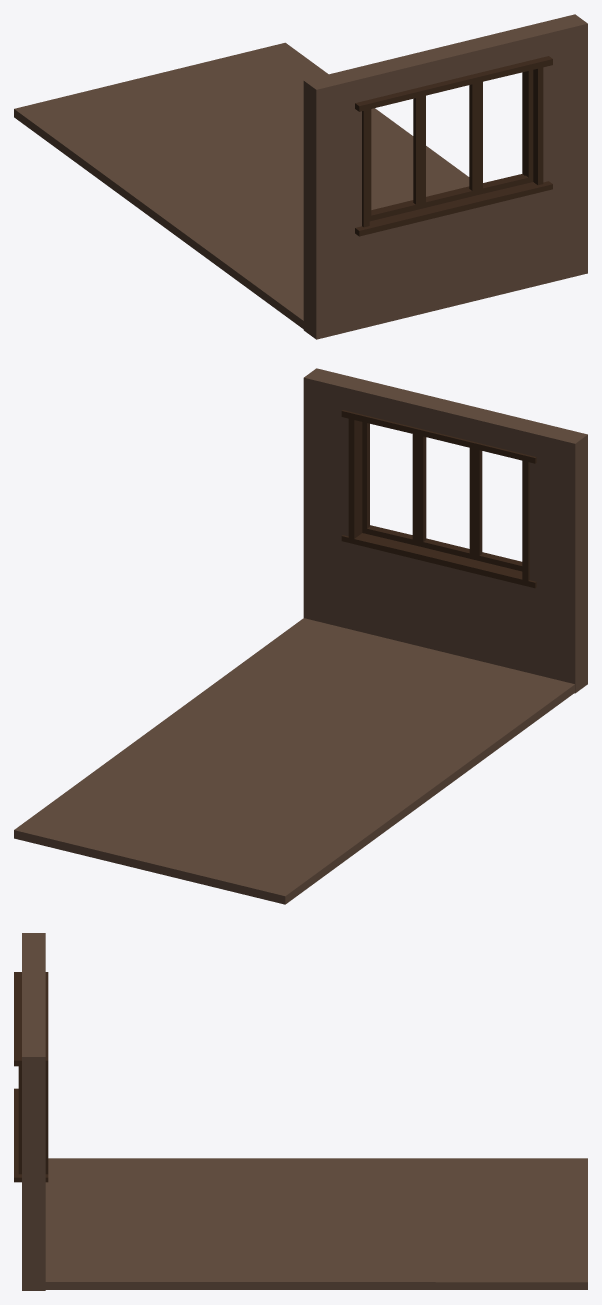
File: Middle_floor_Large_Window_type1.FBX
The picture shows the model from 3 angles, top to bottom: view 1: azimuth 30°, elevation 25°; view 2: azimuth 150°, elevation 25°; view 3: azimuth 270°, elevation 25°; orthographic projection. The views are drawn at different scales.
Visible parts, largest first — view 1: Empty_floor_large; view 2: Empty_floor_large; view 3: Empty_floor_large.
Part boxes in pixels (x1,y1,x2,y2): Empty_floor_large: (14, 14, 587, 339); Empty_floor_large: (14, 368, 587, 904); Empty_floor_large: (14, 933, 587, 1290).
Bounding box in the file's own units: 319 × 623 × 280.
